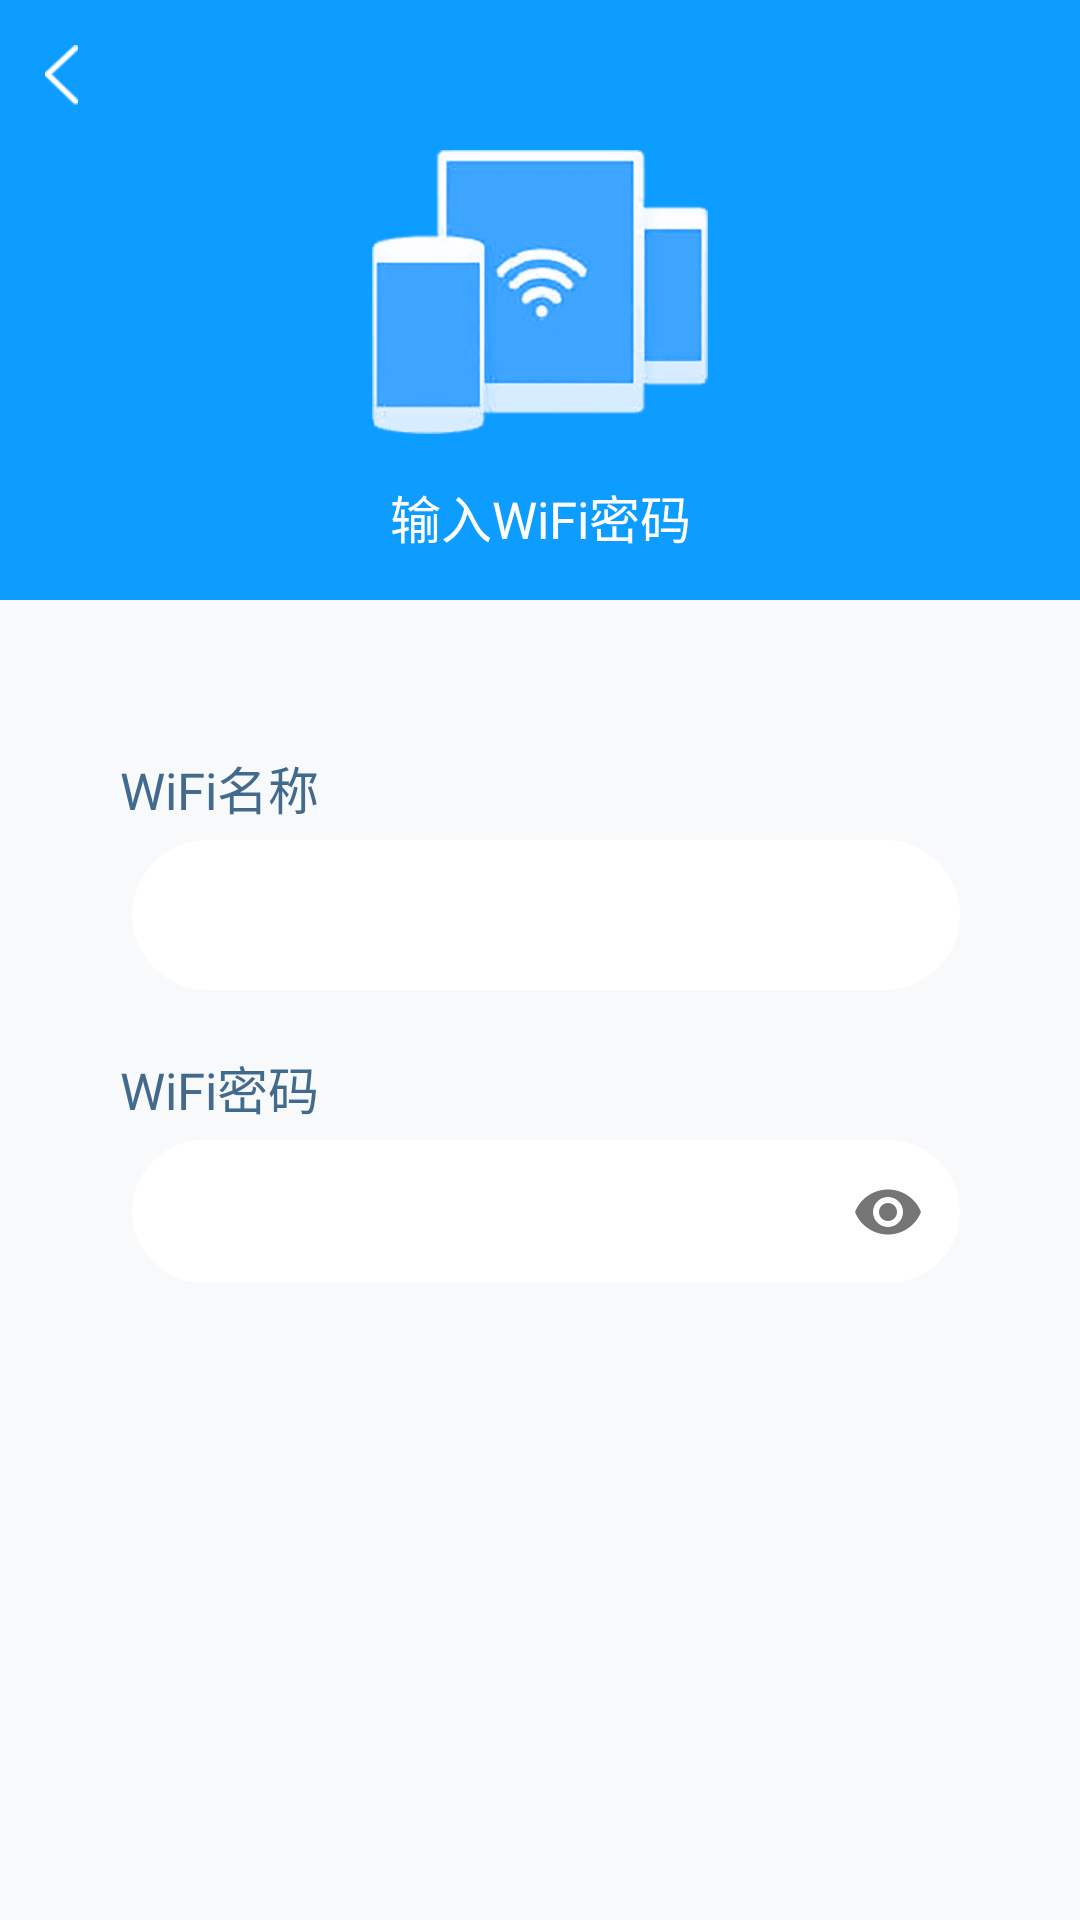

Icon click points for this 1080×1920 phone screenshot, format [x,y]:
return: [61,75]
